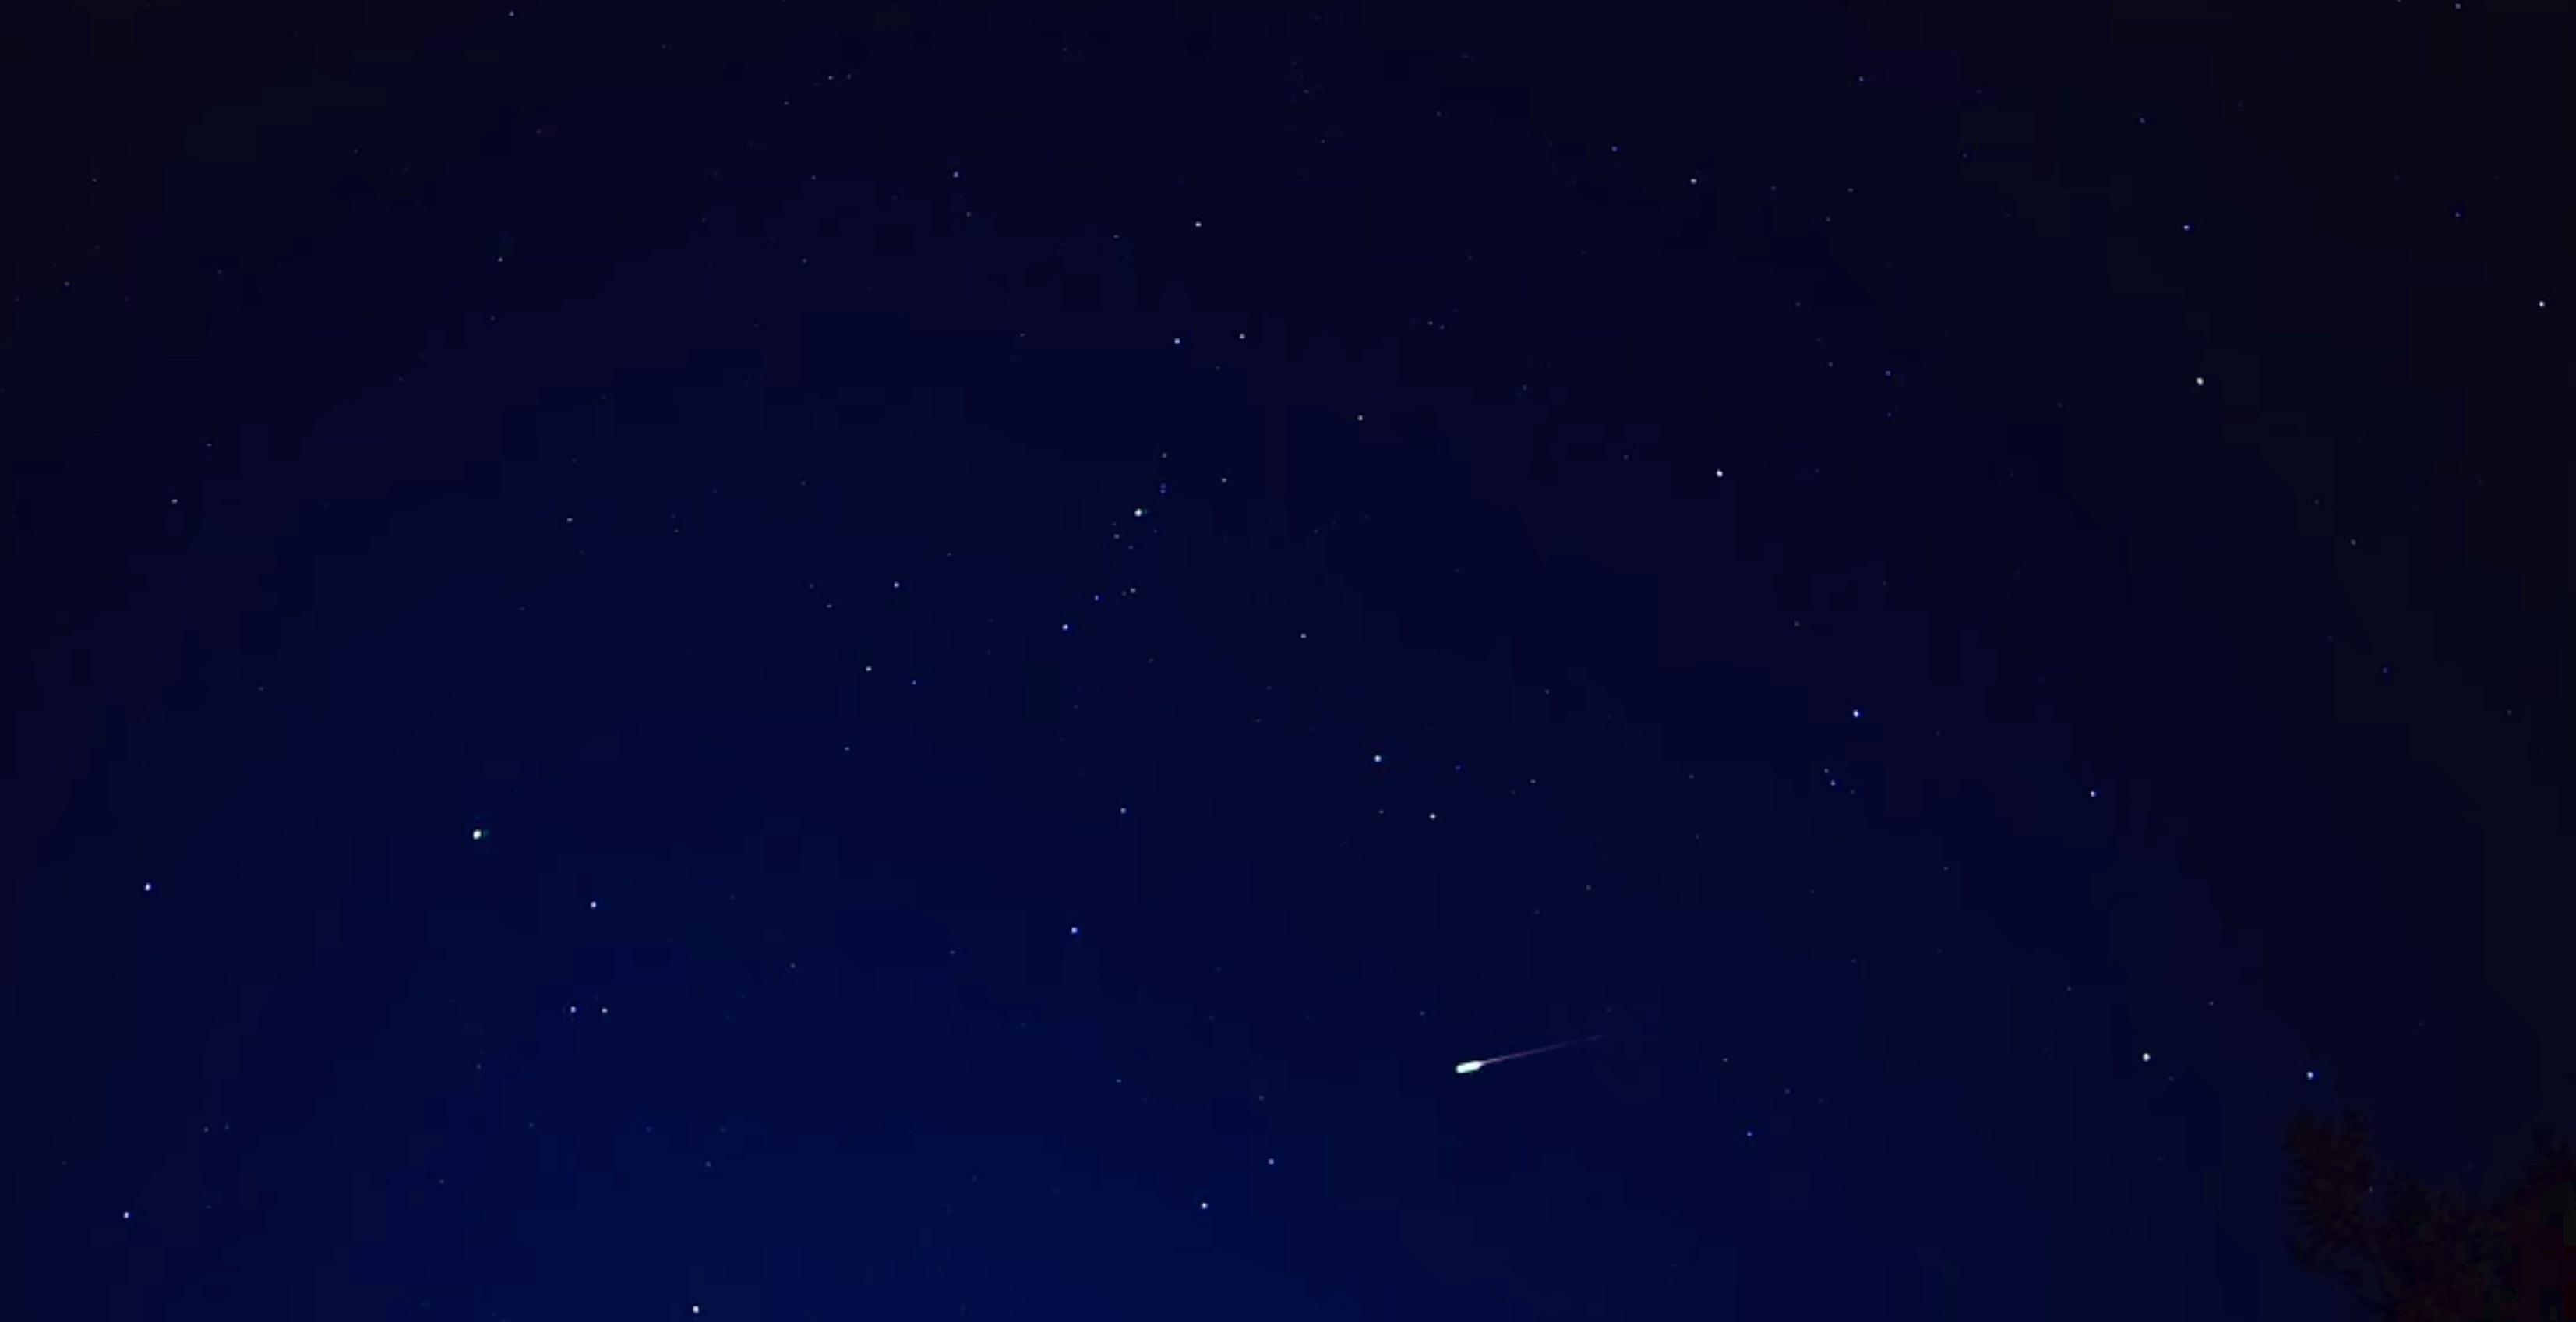meteorite: (1400, 1010, 1675, 1089)
